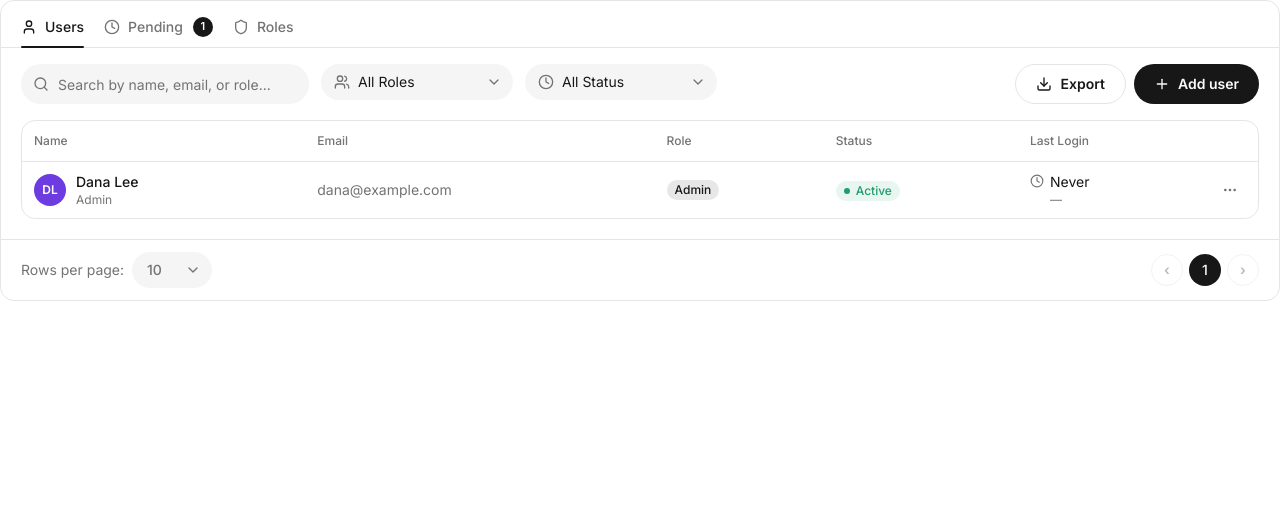
Test: Users & Roles — Pending, Approve as › lists every role, with no clipping container around the list
The image size is (1280, 529).
Click the tab "Pending 1". click: (158, 32)
box: [104,17,213,47]
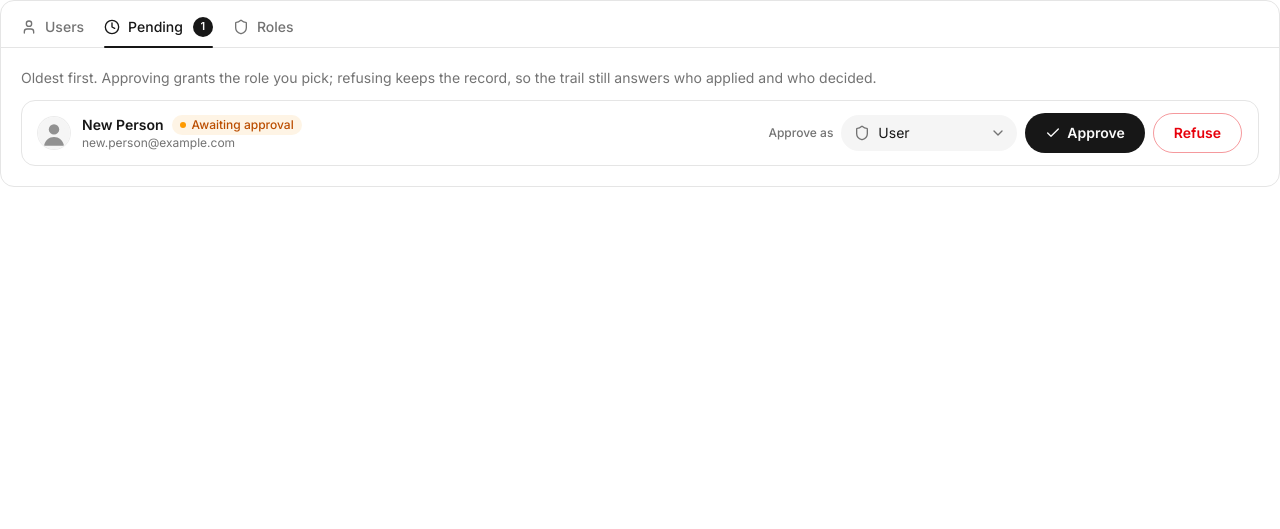
Click the button with aria-label "Role for new.person@example.com: User". click: (929, 133)
box: [841,115,1017,151]
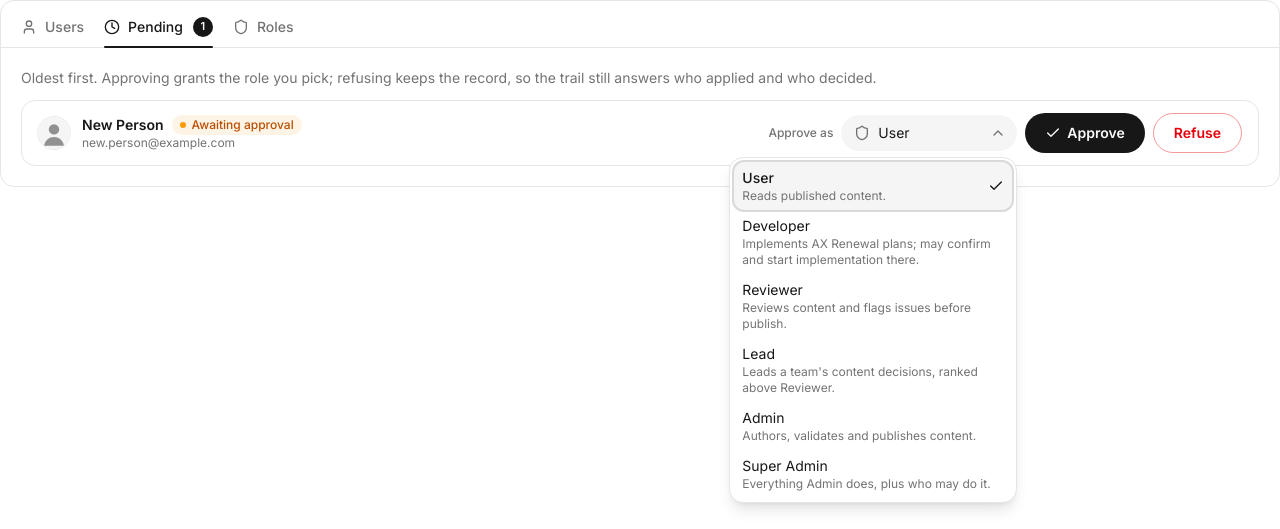
Now the number of options is 6, box [734,162,1012,210]; [734,210,1012,274]; [734,274,1012,338]; [734,338,1012,402]; [734,402,1012,450]; [734,450,1012,498]
